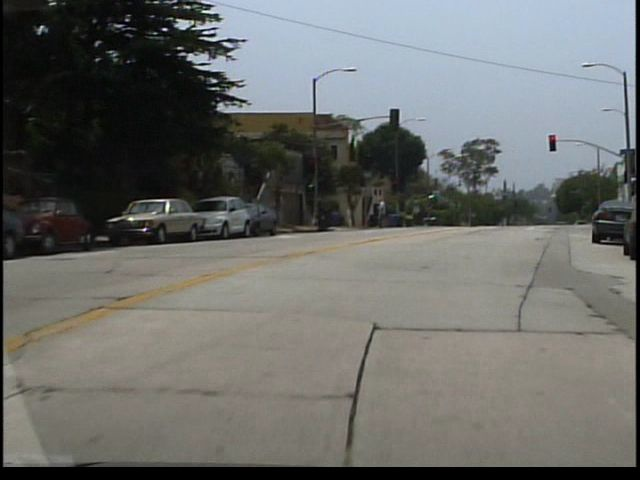person: (379, 199, 391, 231), (350, 204, 358, 230)
